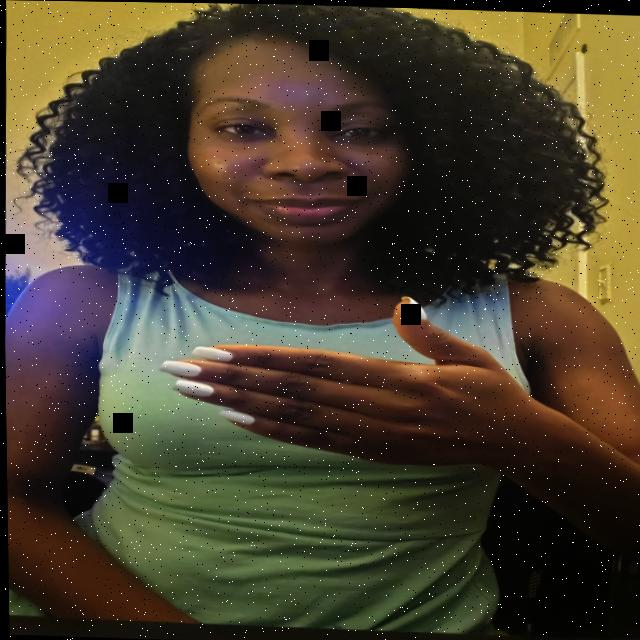Paper: (144, 284, 547, 475)
